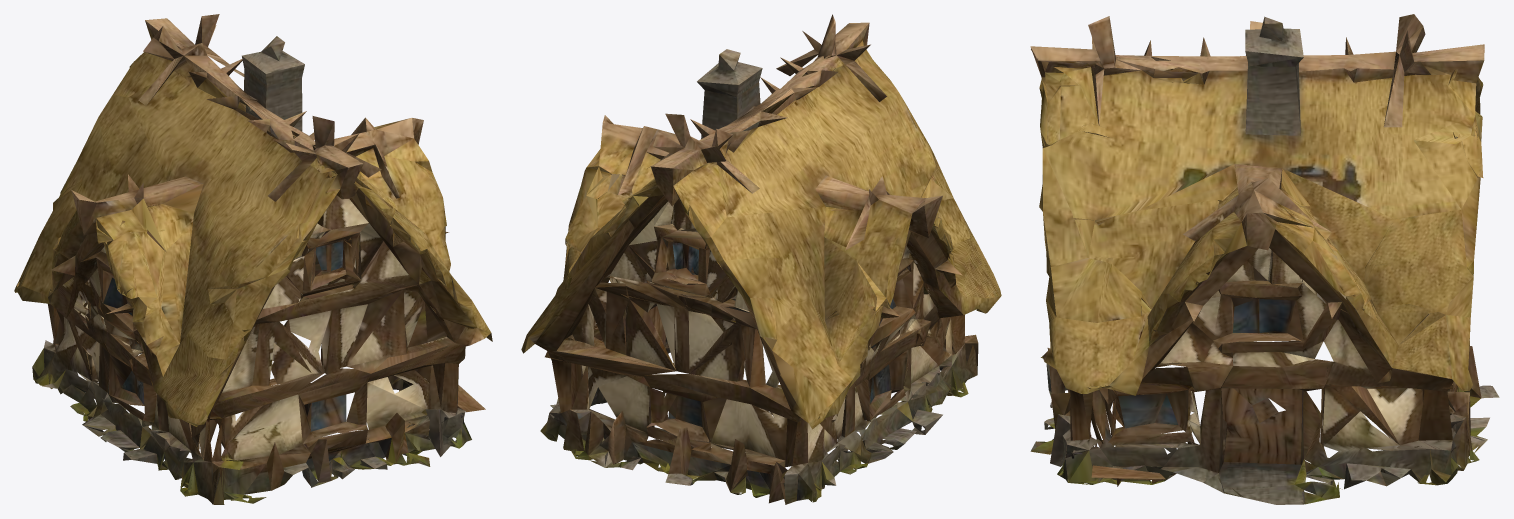
The model's file is house.glb.
3 views of the same model, side by side, from view 1: azimuth 30°, elevation 25°; view 2: azimuth 150°, elevation 25°; view 3: azimuth 270°, elevation 25° (orthographic). The views are drawn at different scales.
Parts seen in each view (by area): view 1: house; view 2: house; view 3: house.
Boxes of the visible parts, x1,y1,x2,y2 form: house: (14,14,492,504); house: (521,14,1001,504); house: (1030,14,1499,504).
Bounding box in the file's own units: 1.35 × 1.32 × 1.38.
1 material, 1 textured.
